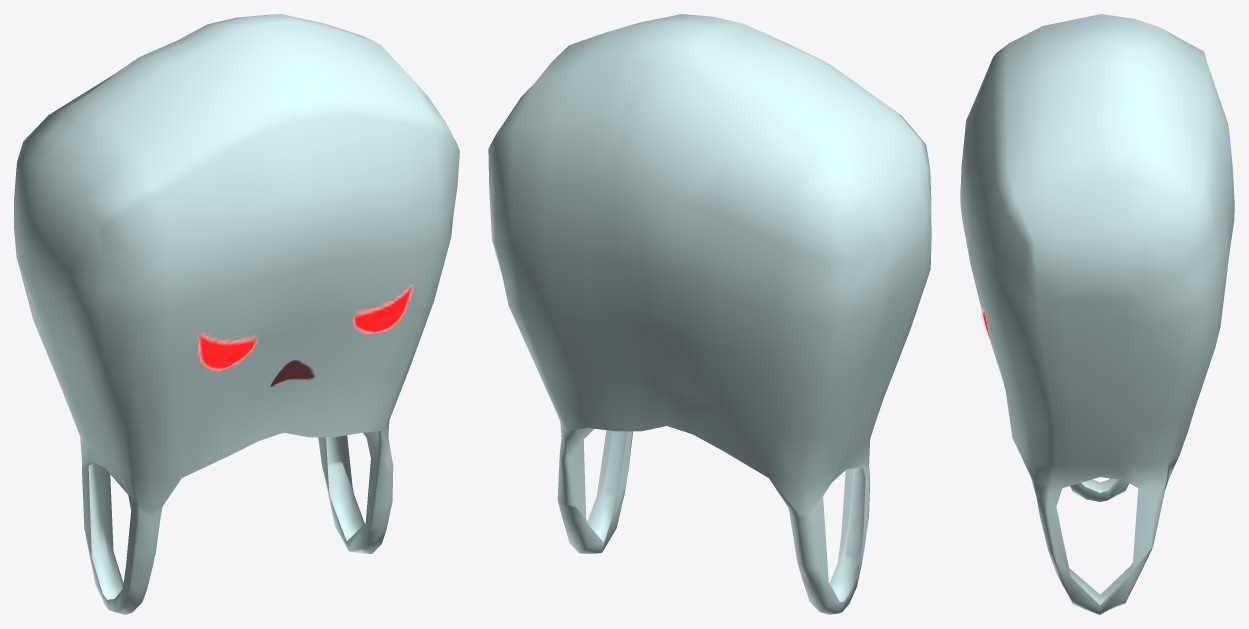
The model's file is plasticBag.fbx.
3 views of the same model, side by side, from view 1: azimuth 30°, elevation 25°; view 2: azimuth 150°, elevation 25°; view 3: azimuth 270°, elevation 25° (orthographic). The views are drawn at different scales.
Parts seen in each view (by area): view 1: bag; view 2: bag; view 3: bag.
Part boxes in pixels (x1,y1,x2,y2): bag: (14, 14, 459, 614); bag: (488, 14, 931, 614); bag: (960, 14, 1234, 614).
Bounding box in the file's own units: 41.36 × 55.77 × 26.23.
